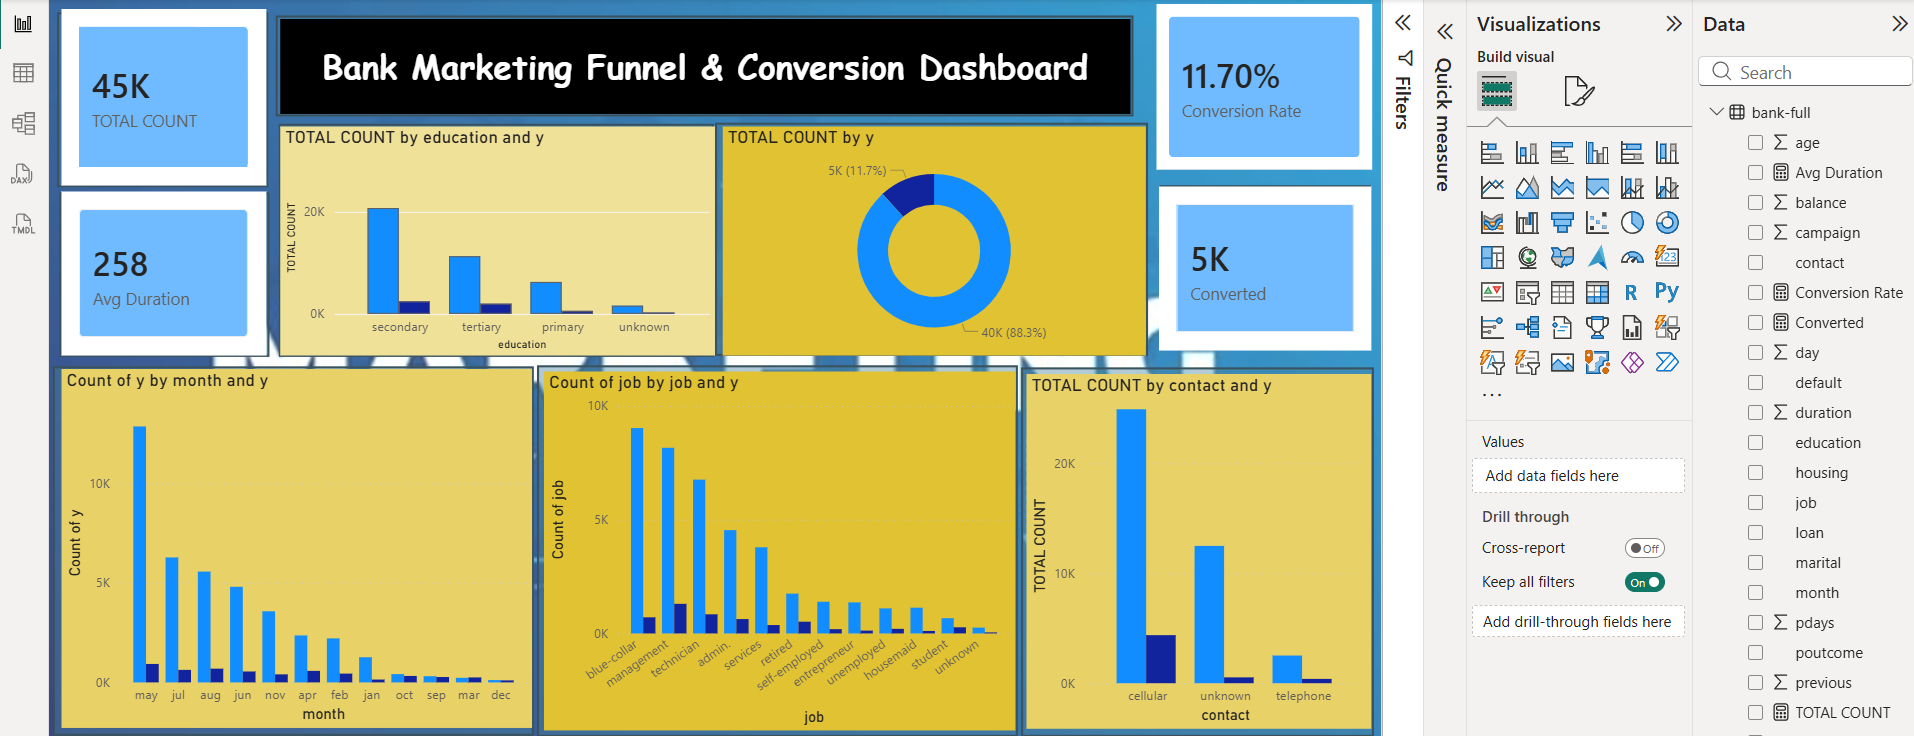

The dashboard page shown, as its layout file describes it:
{"tool":"powerbi","page":{"name":"Page 1","canvas":[1280,720],"ordinal":0},"visuals":[{"type":"cardVisual","fields":{"Data":["bank-full.TOTAL COUNT"]},"box":[12.3,10,196.5,169.7],"z":0},{"type":"cardVisual","fields":{"Data":["bank-full.Avg Duration"]},"box":[12,184.9,196.9,157.3],"z":1000},{"type":"cardVisual","fields":{"Data":["bank-full.Converted"]},"box":[1066.4,179.8,204.3,157.4],"z":2000},{"type":"cardVisual","fields":{"Data":["bank-full.Conversion Rate"]},"box":[1059.1,0,217.3,169.3],"z":3000},{"type":"donutChart","fields":{"Category":["bank-full.y"],"Y":["bank-full.TOTAL COUNT"]},"box":[647.6,122.8,406.5,220],"z":4000},{"type":"clusteredColumnChart","fields":{"Y":["CountNonNull(bank-full.job)"],"Category":["bank-full.job"],"Series":["bank-full.y"]},"box":[475.5,357.8,452.7,344.6],"z":5000},{"type":"clusteredColumnChart","fields":{"Category":["bank-full.month"],"Y":["CountNonNull(bank-full.y)"],"Series":["bank-full.y"]},"box":[12.3,355.1,452.2,345],"z":6000},{"type":"clusteredColumnChart","fields":{"Category":["bank-full.contact"],"Y":["bank-full.TOTAL COUNT"],"Series":["bank-full.y"]},"box":[939,360.2,331.4,341],"z":7000},{"type":"clusteredColumnChart","fields":{"Category":["bank-full.education"],"Y":["bank-full.TOTAL COUNT"],"Series":["bank-full.y"]},"box":[222.2,122.8,417.6,220],"z":8000},{"type":"textbox","box":[222.1,19.2,816.5,91.3],"z":8001}]}

Visuals, with their boxes in screenshot pixels (x1, y1, x2, y2):
cardVisual - bank-full.TOTAL COUNT: 53/0/259/173
cardVisual - bank-full.Avg Duration: 52/179/259/344
cardVisual - bank-full.Converted: 1157/173/1371/338
cardVisual - bank-full.Conversion Rate: 1149/0/1377/162
donutChart - bank-full.y x bank-full.TOTAL COUNT: 718/114/1144/344
clusteredColumnChart - CountNonNull(bank-full.job) x bank-full.job: 538/360/1012/721
clusteredColumnChart - bank-full.month x CountNonNull(bank-full.y): 53/357/526/718
clusteredColumnChart - bank-full.contact x bank-full.TOTAL COUNT: 1024/362/1371/720
clusteredColumnChart - bank-full.education x bank-full.TOTAL COUNT: 273/114/710/344
textbox: 273/5/1128/101
